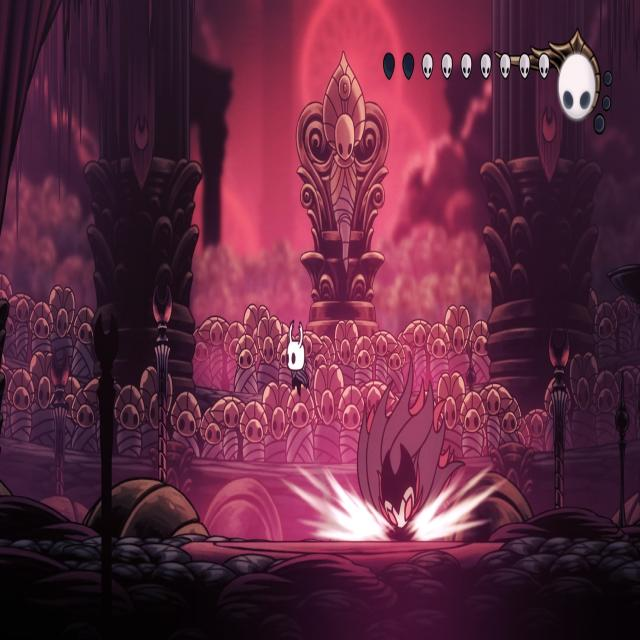Dive Dash: (353, 352, 467, 540)
Player: (282, 314, 308, 401)
